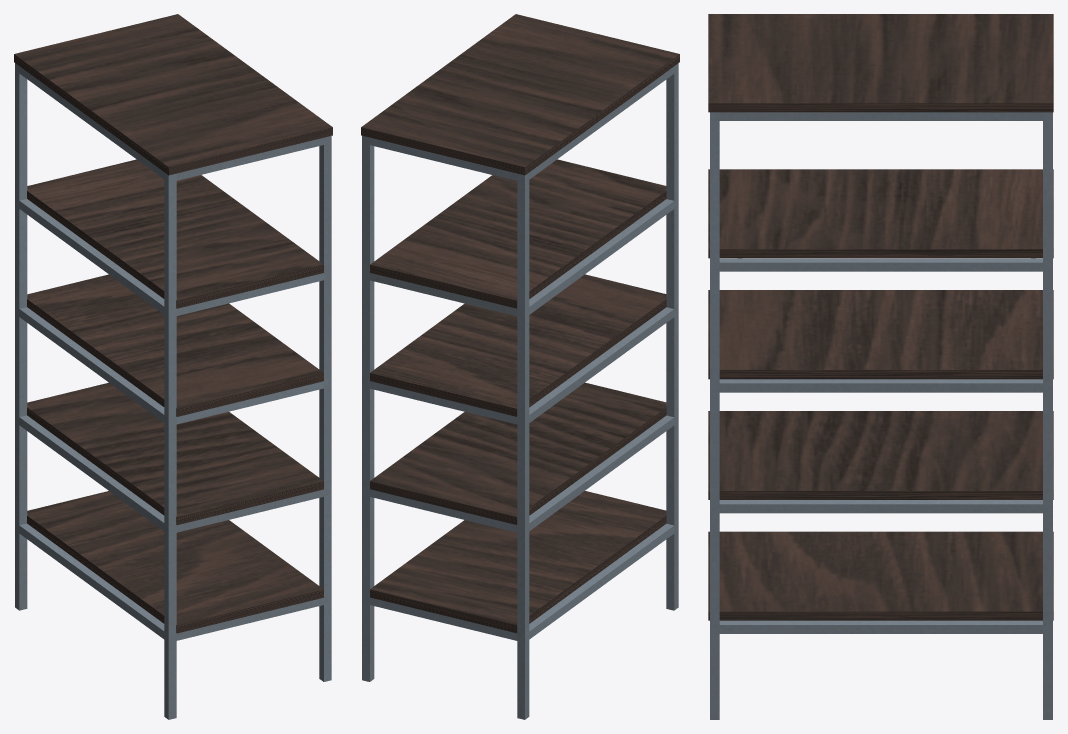
File: rack.glb
3 views of the same model, side by side, from view 1: azimuth 30°, elevation 25°; view 2: azimuth 150°, elevation 25°; view 3: azimuth 270°, elevation 25° (orthographic). The views are drawn at different scales.
Visible parts, largest first — view 1: Cube.003_1, Cube.005_6, Cube.004_5, Cube.001_3, Cube.002_4, Cube_2; view 2: Cube.003_1, Cube.005_6, Cube.004_5, Cube.002_4, Cube_2, Cube.001_3; view 3: Cube.005_6, Cube.003_1, Cube_2, Cube.002_4, Cube.004_5, Cube.001_3.
Boxes of the visible parts, x1=… form: Cube.003_1: x1=15, y1=63, x2=331, y2=719; Cube.005_6: x1=14, y1=14, x2=332, y2=175; Cube.004_5: x1=27, y1=159, x2=323, y2=308; Cube.001_3: x1=27, y1=382, x2=323, y2=525; Cube.002_4: x1=27, y1=274, x2=323, y2=416; Cube_2: x1=27, y1=491, x2=323, y2=633; Cube.003_1: x1=362, y1=63, x2=678, y2=719; Cube.005_6: x1=361, y1=14, x2=679, y2=175; Cube.004_5: x1=370, y1=159, x2=666, y2=308; Cube.002_4: x1=370, y1=274, x2=666, y2=416; Cube_2: x1=370, y1=491, x2=666, y2=633; Cube.001_3: x1=370, y1=382, x2=666, y2=524; Cube.005_6: x1=708, y1=14, x2=1053, y2=112; Cube.003_1: x1=710, y1=112, x2=1052, y2=719; Cube_2: x1=708, y1=531, x2=1053, y2=620; Cube.002_4: x1=708, y1=290, x2=1053, y2=379; Cube.004_5: x1=708, y1=169, x2=1053, y2=258; Cube.001_3: x1=708, y1=411, x2=1053, y2=499.
Bounding box in the file's own units: 0.6348 × 2.04 × 1.04.
Materials: 2 (2 with a texture image).
